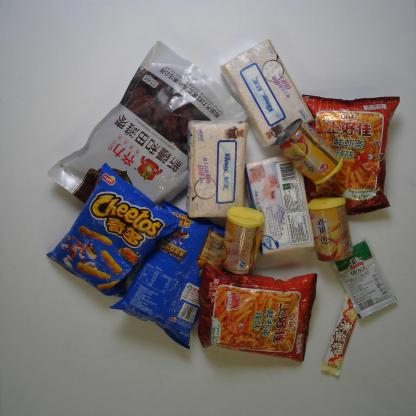Canned Food: (275, 114, 346, 187), (304, 195, 356, 262), (220, 204, 267, 278)
Chocolate: (317, 288, 358, 378)
Dried Food: (43, 38, 249, 211)
Puffed Food: (107, 197, 235, 352), (44, 160, 181, 300), (299, 91, 402, 217), (197, 262, 319, 366)
Seasoner: (333, 239, 400, 318)
Tissue: (219, 38, 317, 152), (242, 152, 315, 256), (186, 117, 249, 221)
